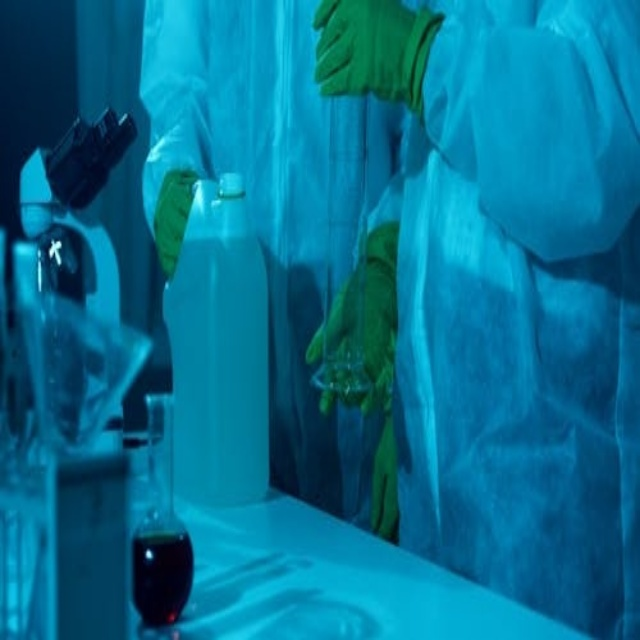Guantes: (306, 220, 401, 419), (311, 0, 440, 122), (153, 167, 200, 283), (370, 406, 400, 546)
